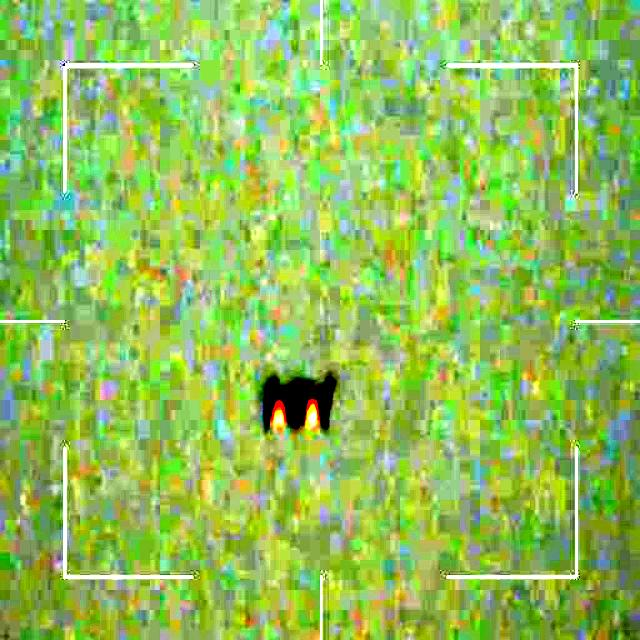bird: (259, 374, 338, 435)
